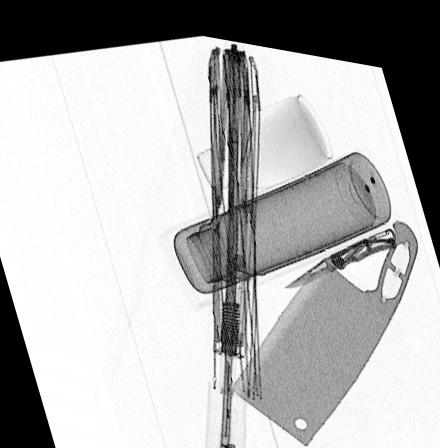Knife: (228, 206, 417, 435), (282, 213, 396, 278)
